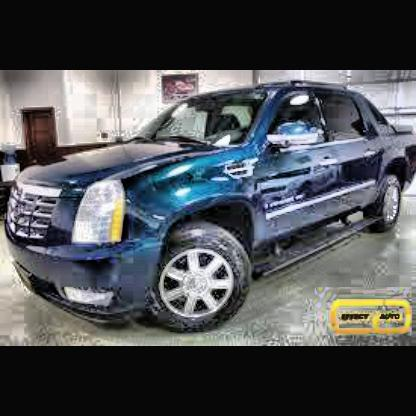Cadillac Escalade EXT Crew Cab 2007: (8, 77, 416, 335)
